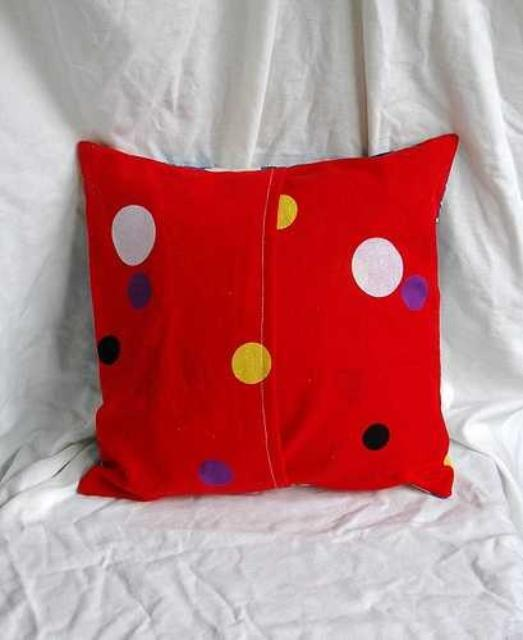pillow: (74, 130, 460, 502)
